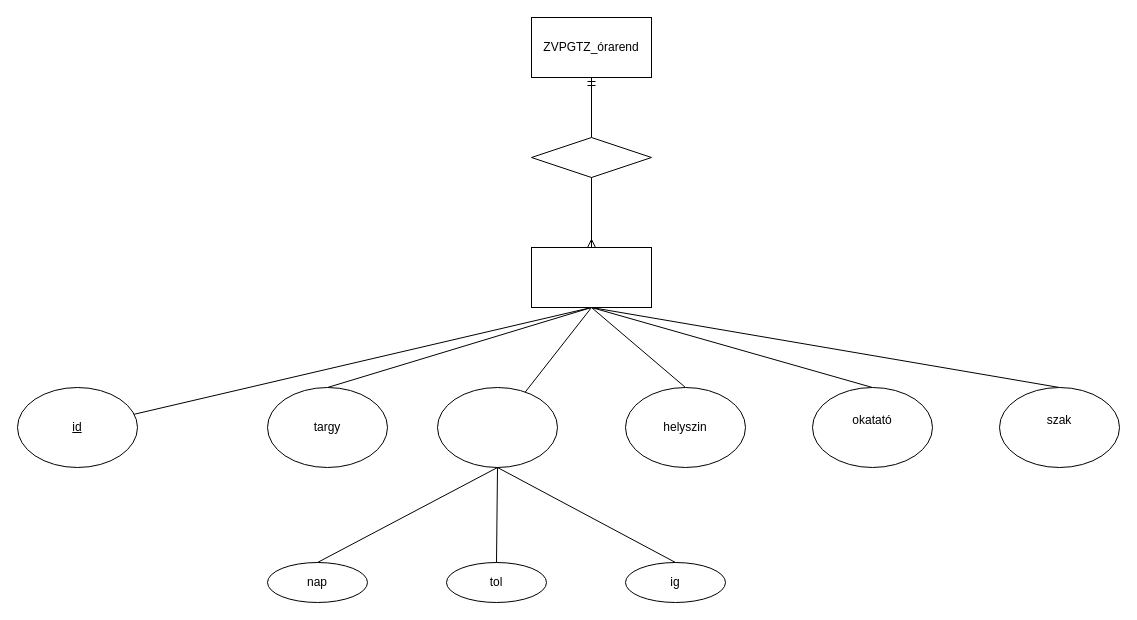
Some shapes in this 1137 by 620 pixel diagram are drawn without their labels. Here are the shapes that lost their labels. From the top down, the centre of each, then its label:
At (591,157): "Relationship".
At (591,277): "óra".
At (497,427): "ido".
